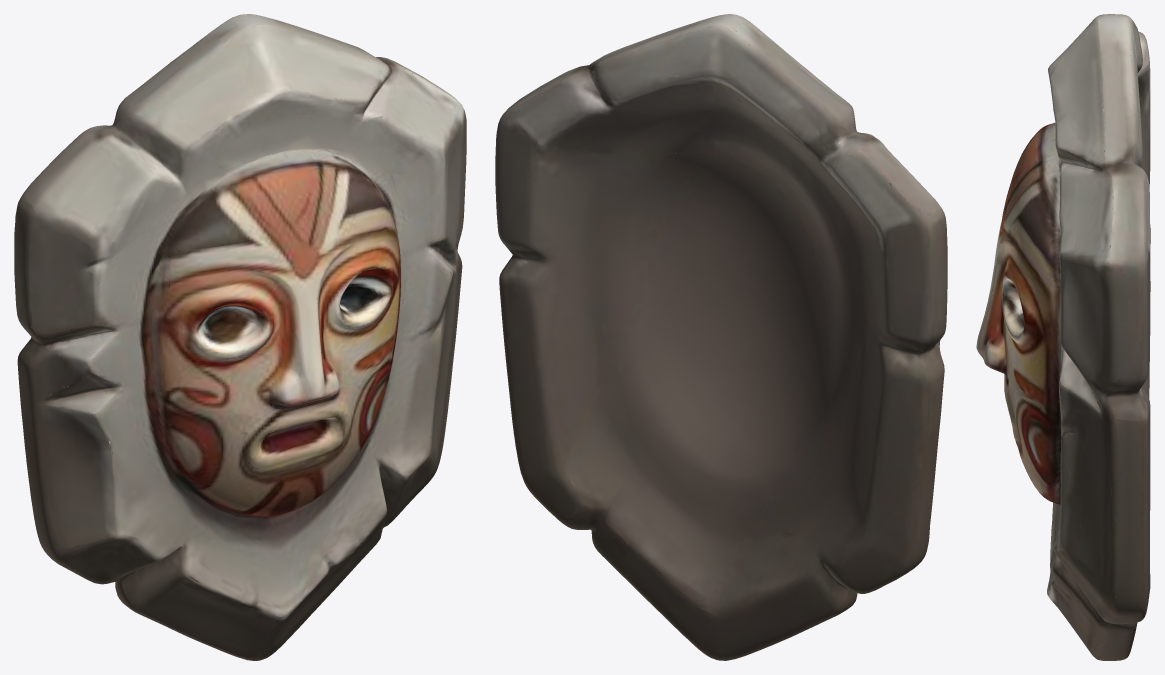
Rendered from escudo_marajoara.glb.
3 views of the same model, side by side, from view 1: azimuth 30°, elevation 25°; view 2: azimuth 150°, elevation 25°; view 3: azimuth 270°, elevation 25° (orthographic).
Parts seen in each view (by area): view 1: escudo_marajoara; view 2: escudo_marajoara; view 3: escudo_marajoara.
Boxes of the visible parts, bbox=[...] form: escudo_marajoara: bbox=[14, 14, 466, 660]; escudo_marajoara: bbox=[495, 14, 947, 660]; escudo_marajoara: bbox=[976, 14, 1150, 660].
Bounding box in the file's own units: 0.2077 × 0.2878 × 0.0712.
1 material, 1 textured.
